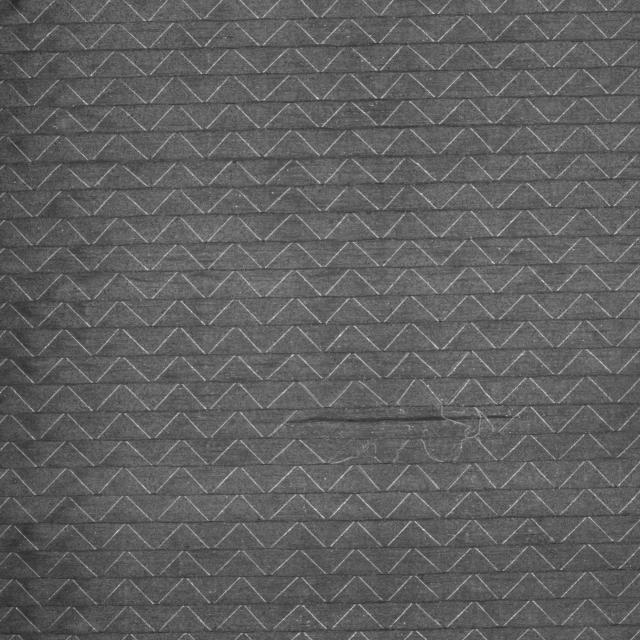carbon-fibre-defect: (280, 404, 501, 468)
